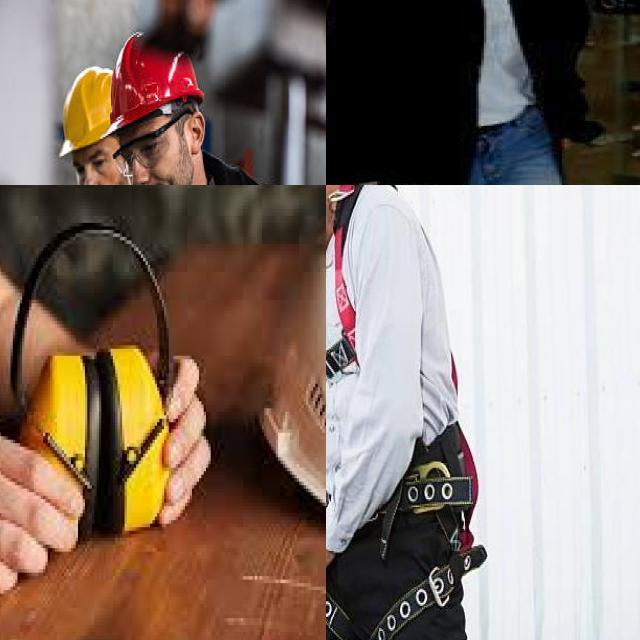Ear-protection: (97, 338, 171, 534), (17, 348, 94, 530)
Harness: (326, 424, 488, 640), (326, 185, 367, 382)
No_Ear-Protection: (188, 111, 206, 156)
No_Glasses: (72, 140, 115, 181)
face_nomask: (129, 135, 194, 185), (84, 165, 129, 185)
glasses: (113, 110, 193, 177)
head_helmet: (272, 185, 326, 572), (105, 34, 204, 134), (59, 67, 111, 156)
person: (326, 0, 640, 185)
